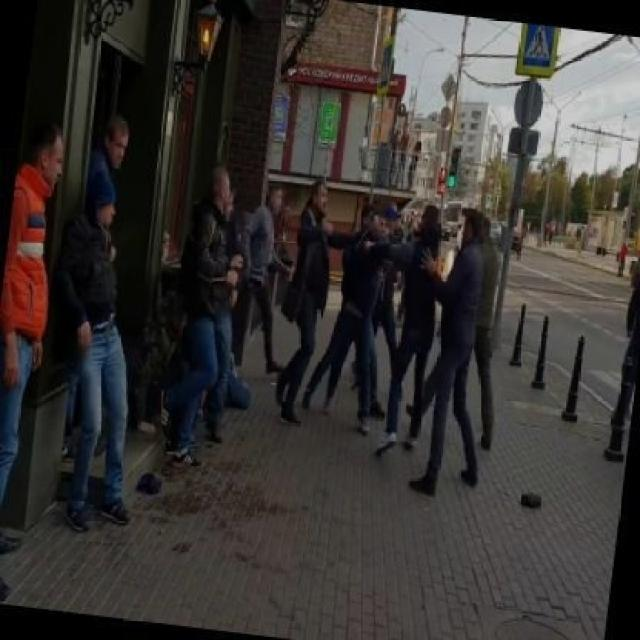fight: (289, 183, 517, 497)
non-fight: (0, 105, 86, 600), (144, 152, 270, 471)
